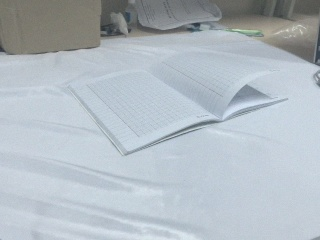box: (1, 1, 103, 57)
